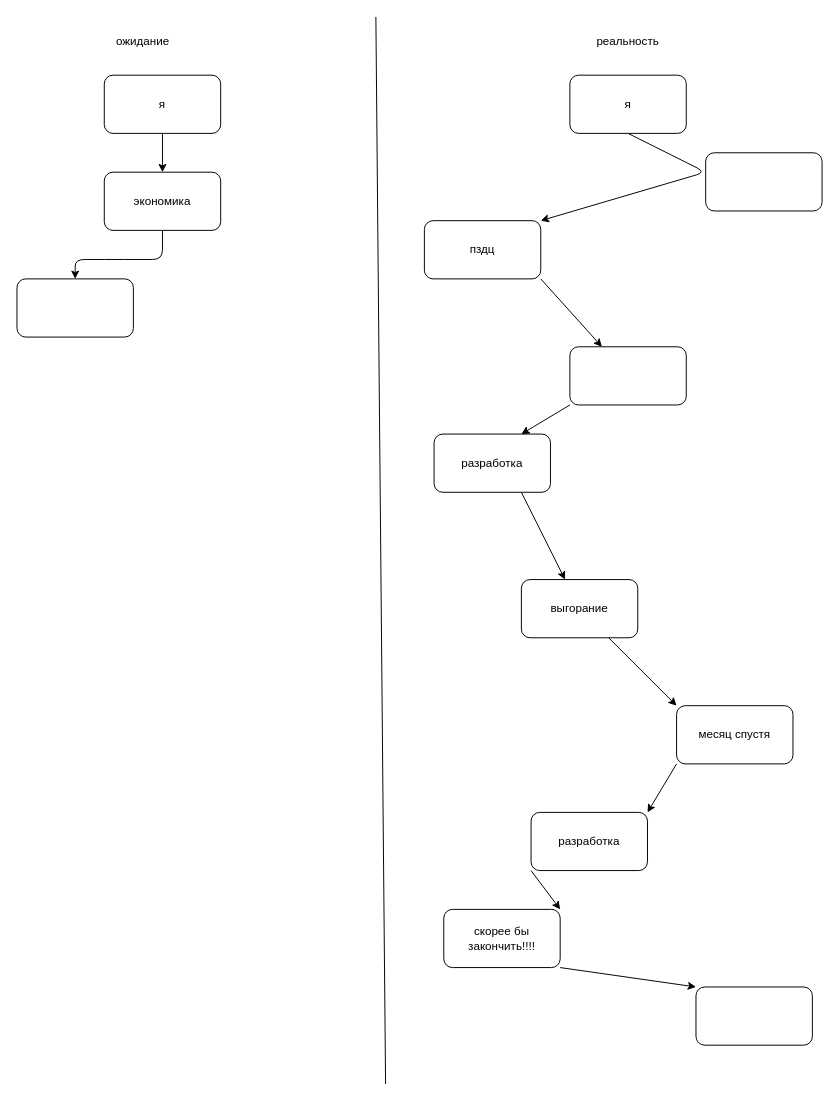
Some shapes in this 839 by 1102 pixel diagram are drawn without their labels. The box of each missing label's shape, as (x1, y1, x2, y2) in pixels:
война: (705, 152, 822, 211)
готовая часть экономики в боте: (16, 278, 133, 337)
стресс: (569, 346, 686, 405)
финал: (695, 986, 812, 1045)
